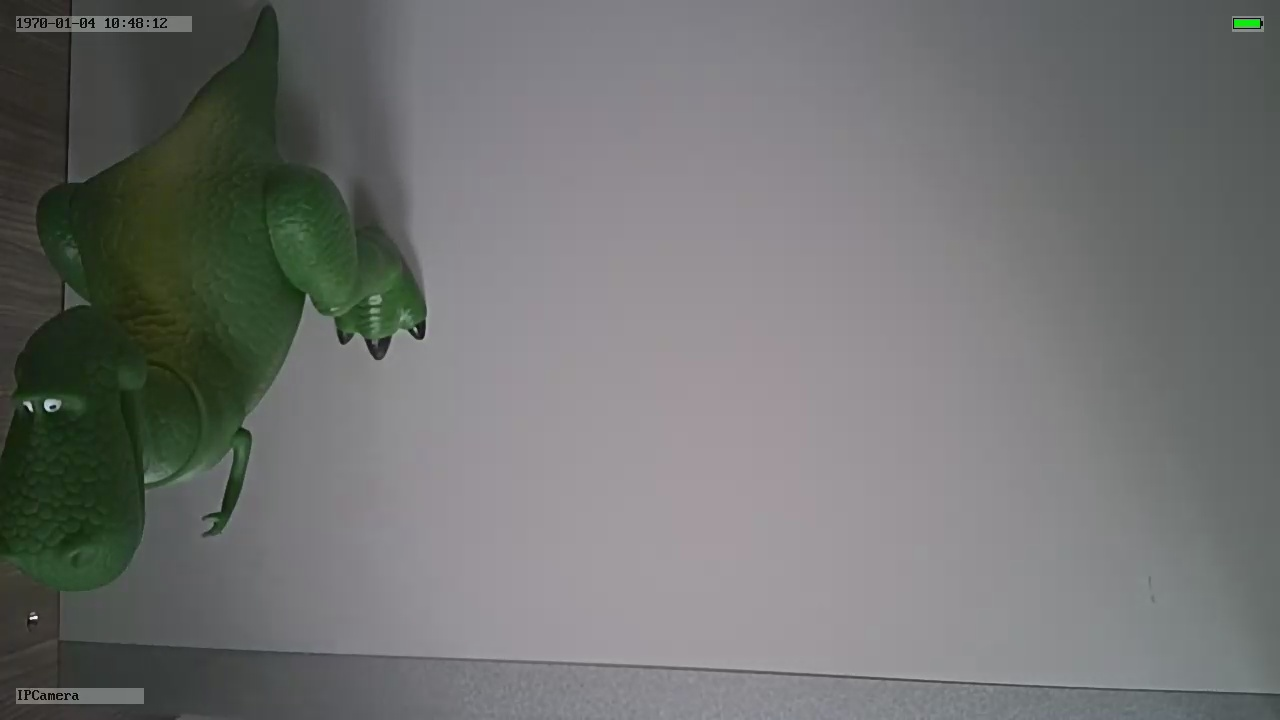rex: (1, 83, 427, 591)
